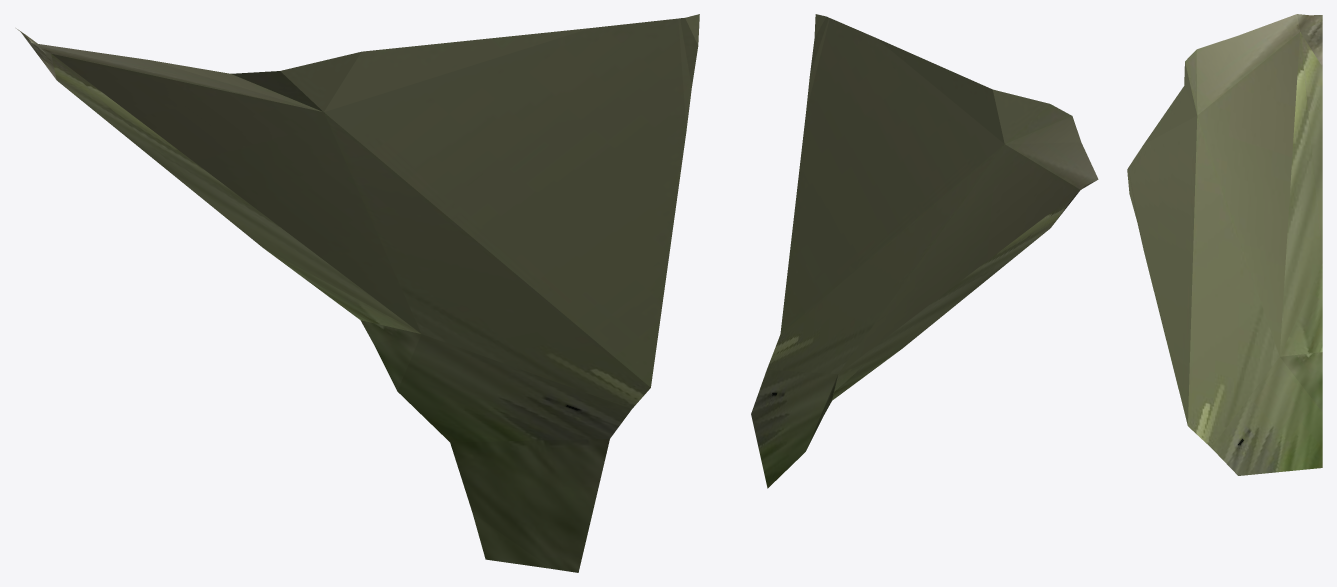
3 views of the same model, side by side, from view 1: azimuth 30°, elevation 25°; view 2: azimuth 150°, elevation 25°; view 3: azimuth 270°, elevation 25° (orthographic). The views are drawn at different scales.
Bounding box in the file's own units: 2.53 × 2.95 × 1.31.
Materials: 2 (2 with a texture image).
